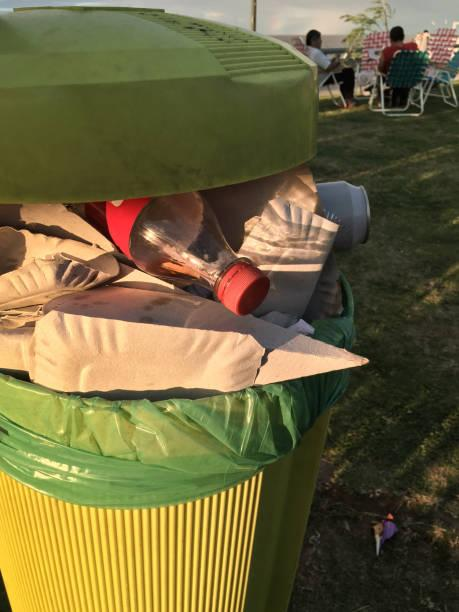trash: (0, 140, 403, 409), (366, 502, 416, 564)
trash_can_overflow: (0, 1, 383, 612)
